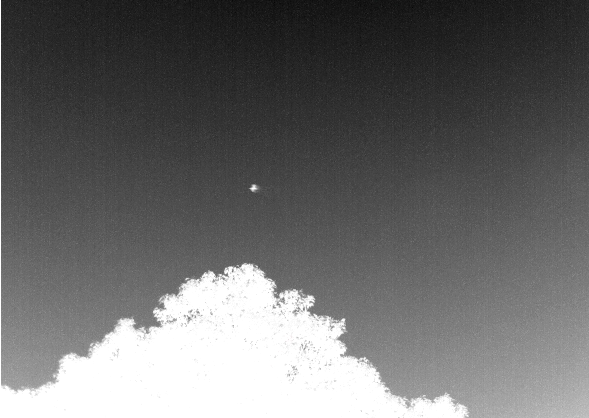dim target: (248, 184, 258, 193)
